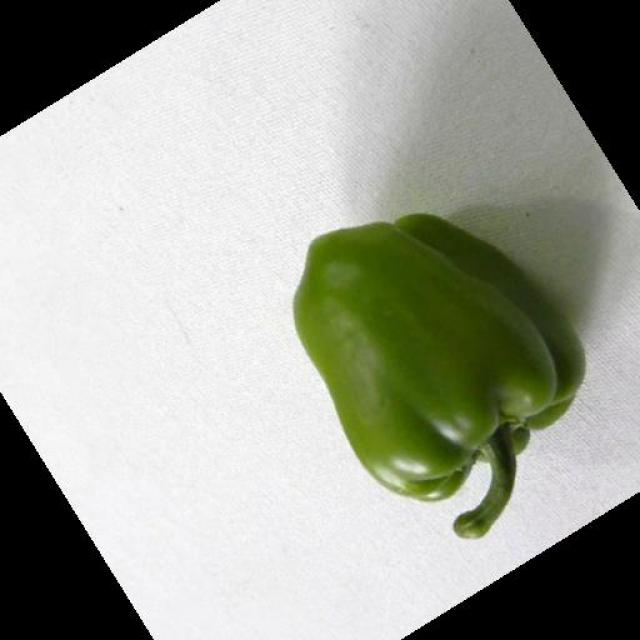Fresh_Capsicum: (262, 202, 592, 518)
